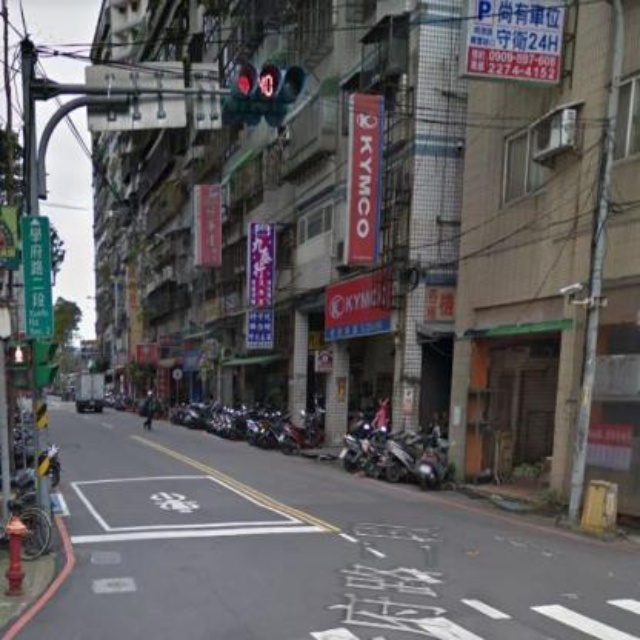Đèn đỏ: (229, 60, 306, 103)
